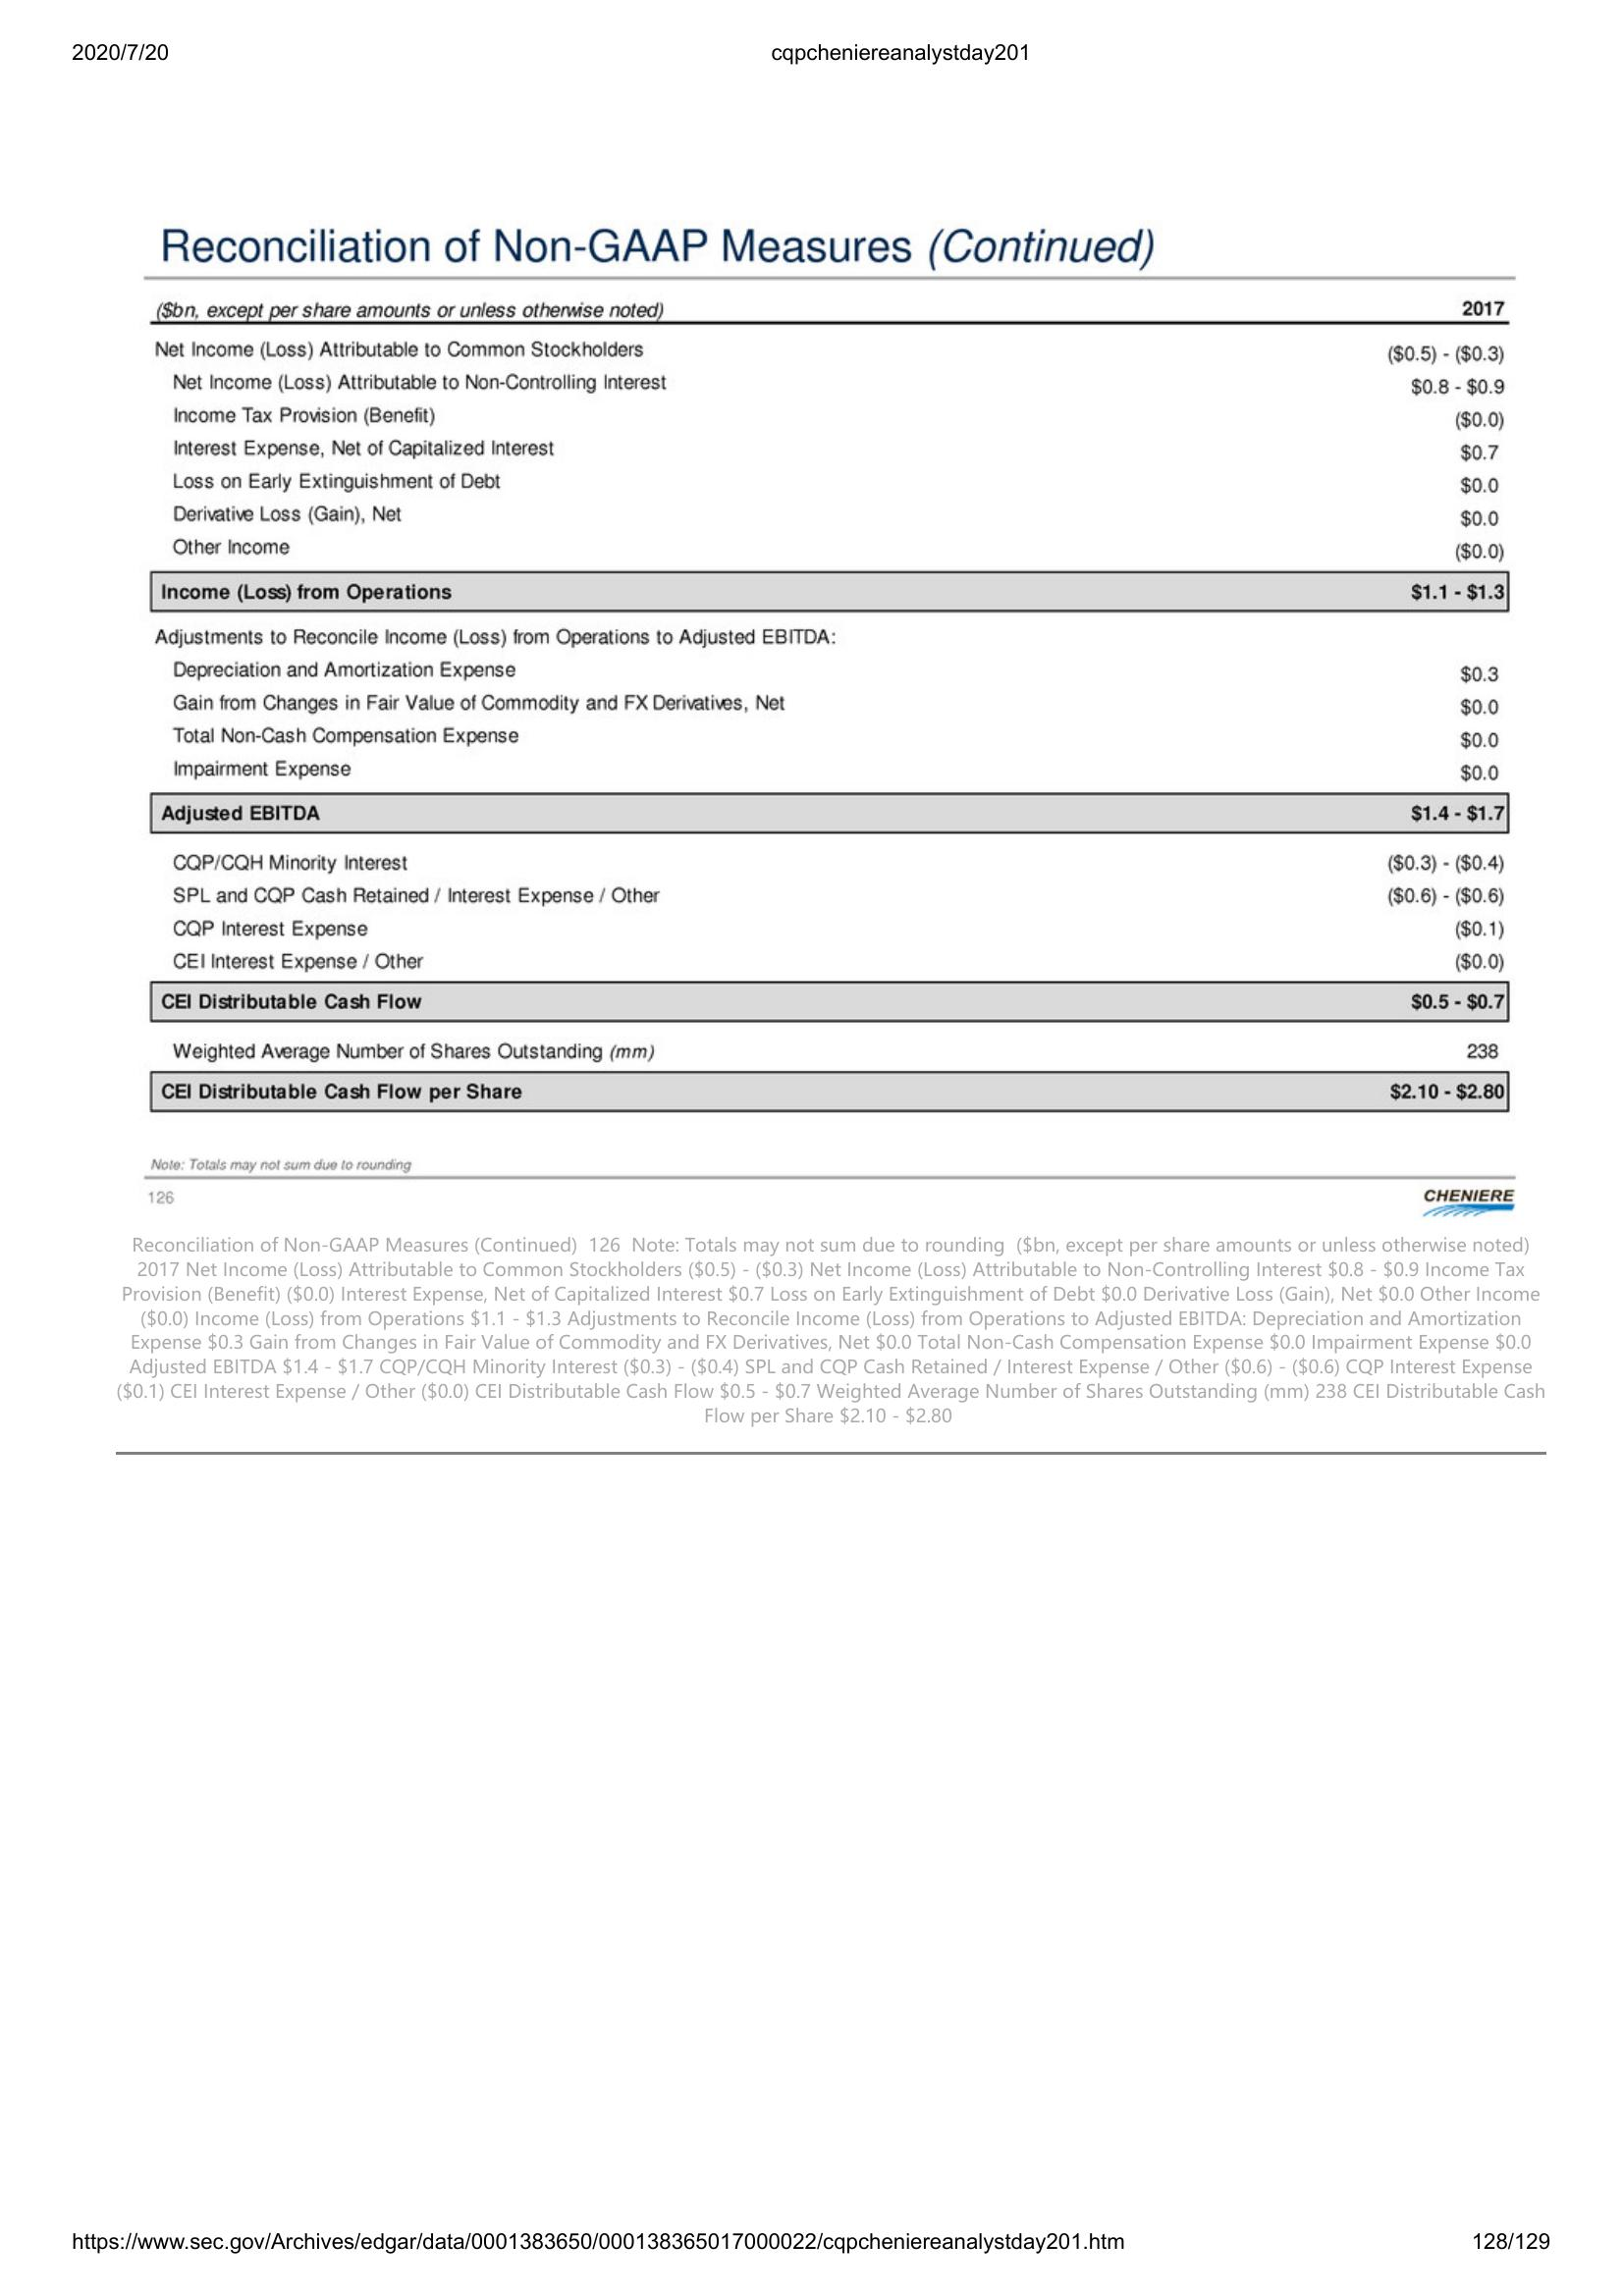table: (146, 293, 1516, 1125)
